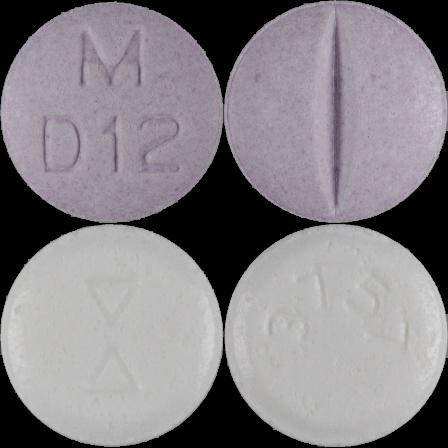0615-5537: (0, 0, 224, 224)
